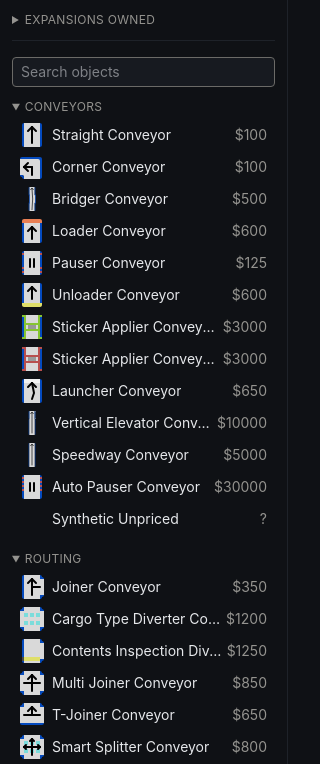
Test: Palette › says so when the search finds nothing
This screenshot has width=320, height=764.
Type "zzzz" into the field labelled "Search objects" at (144,72), box [12, 57, 275, 87]
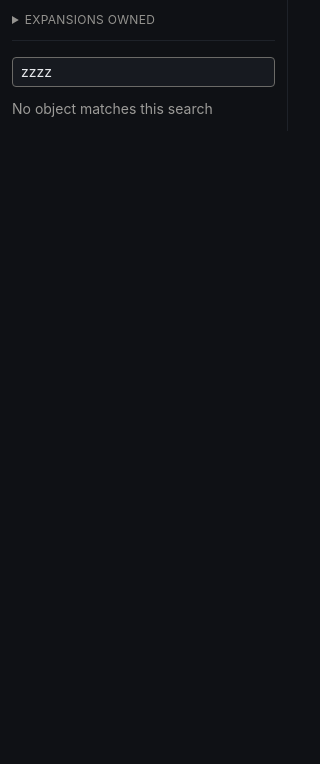
Now the message reads "No object matches this search", box [12, 100, 213, 117]
